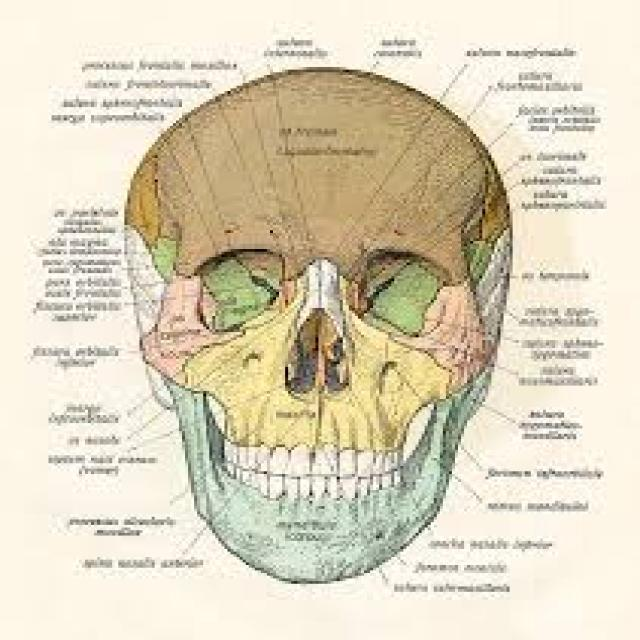skull: (96, 42, 546, 609)
